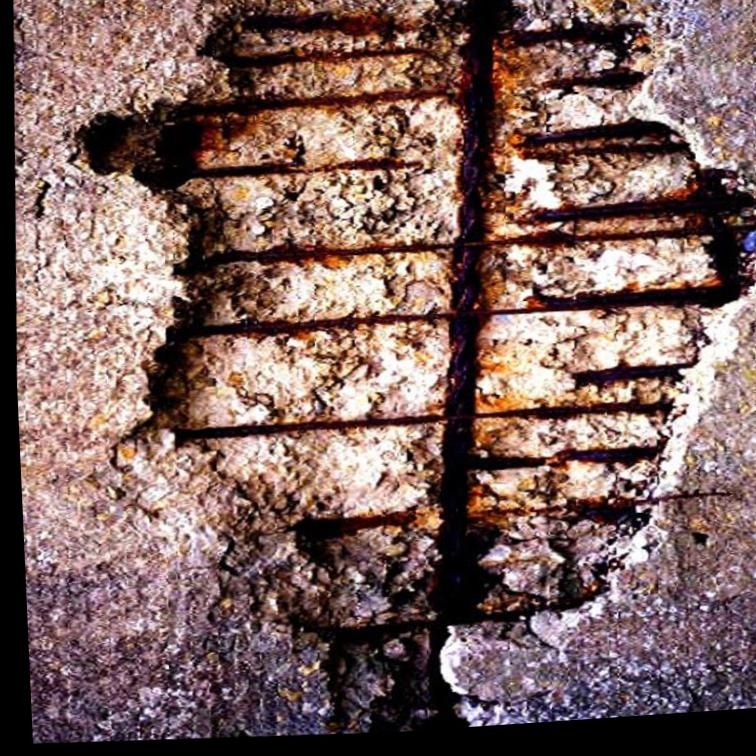damage: (52, 0, 756, 735)
